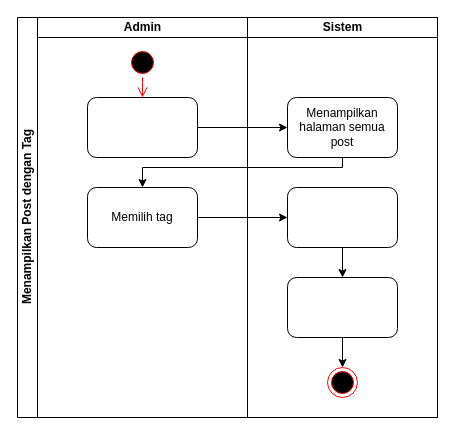
Image size: 455x435. Some labels were removed from this diagram. The centre of each missing label's shape, as x and y in pixels:
"Membuka halaman tampil semua post" belongs at [142,127].
"Menampilkan post berdasarkan tag" belongs at [342,307].
"Mencari data" belongs at [342,217].
